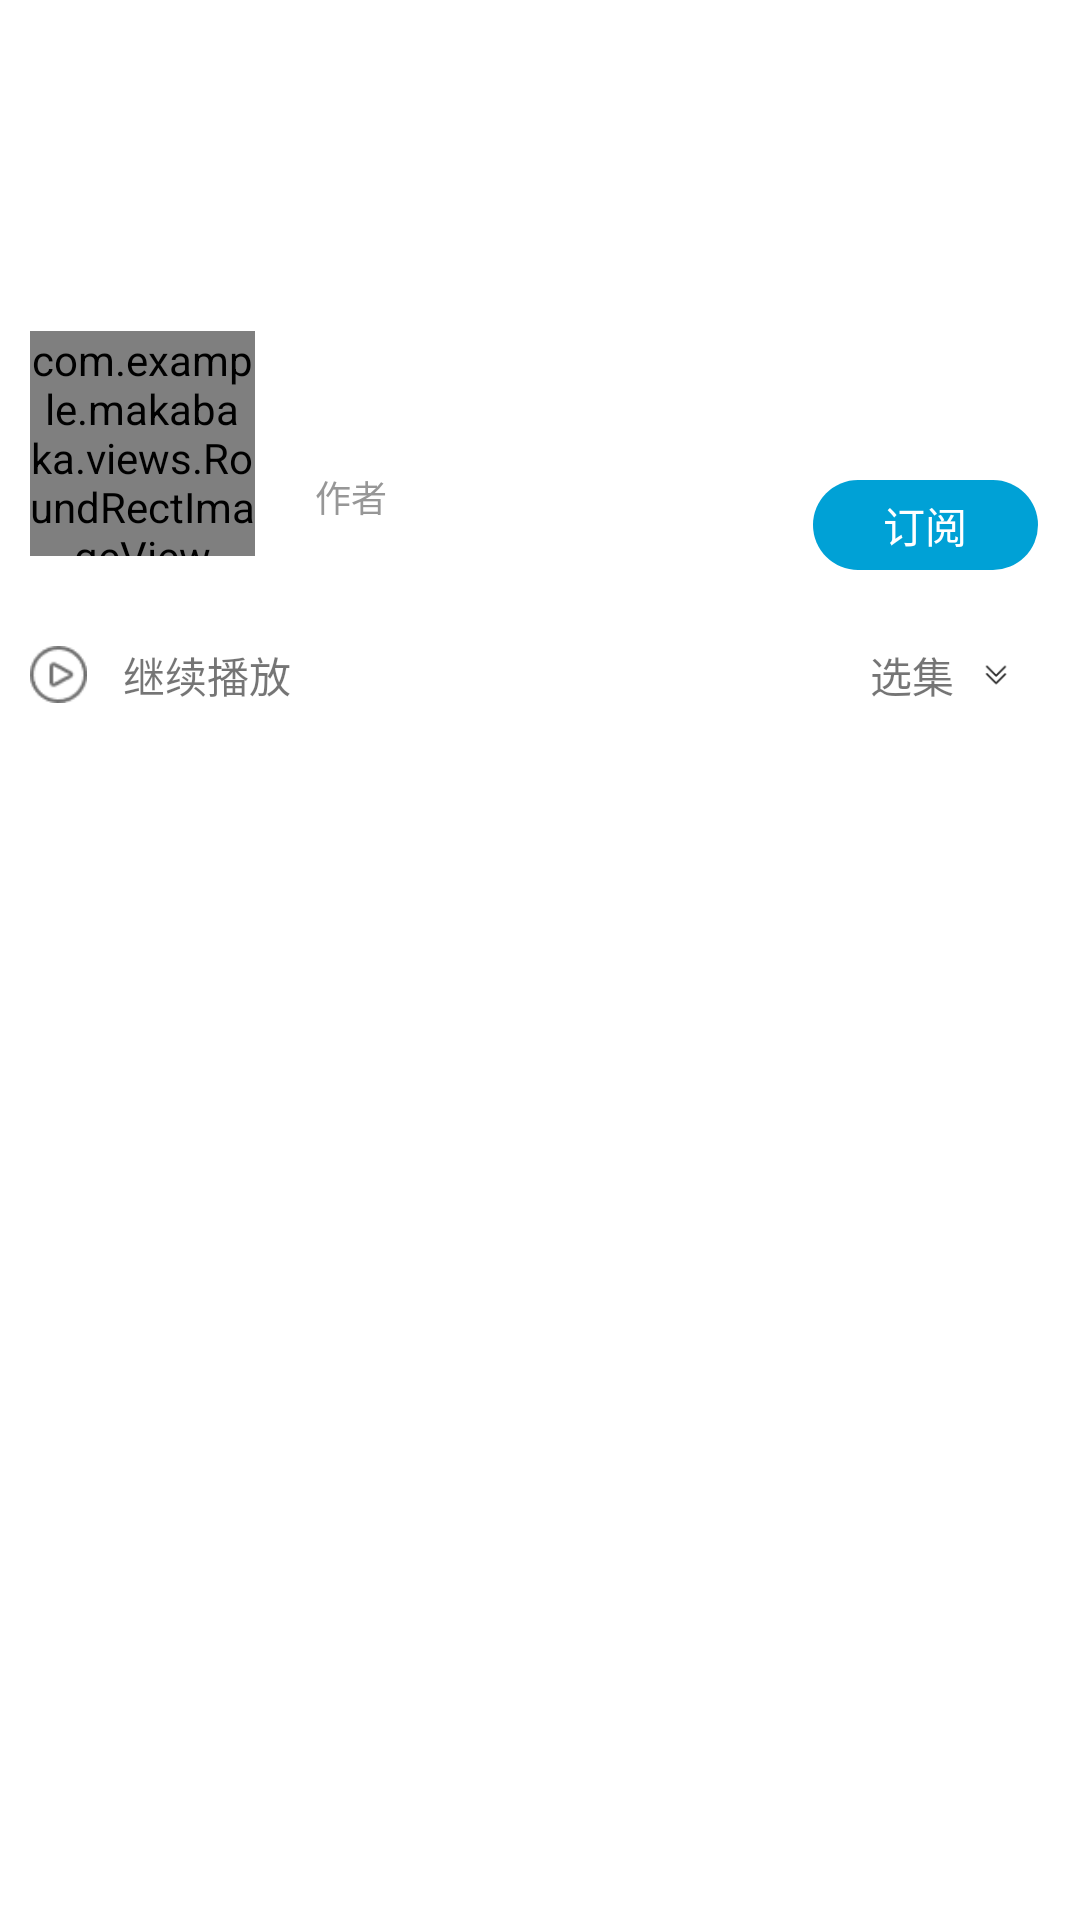

Screen size 1080 x 1920. Icon name, then its center in pixels as point (x, y):
play: point (58, 674)
